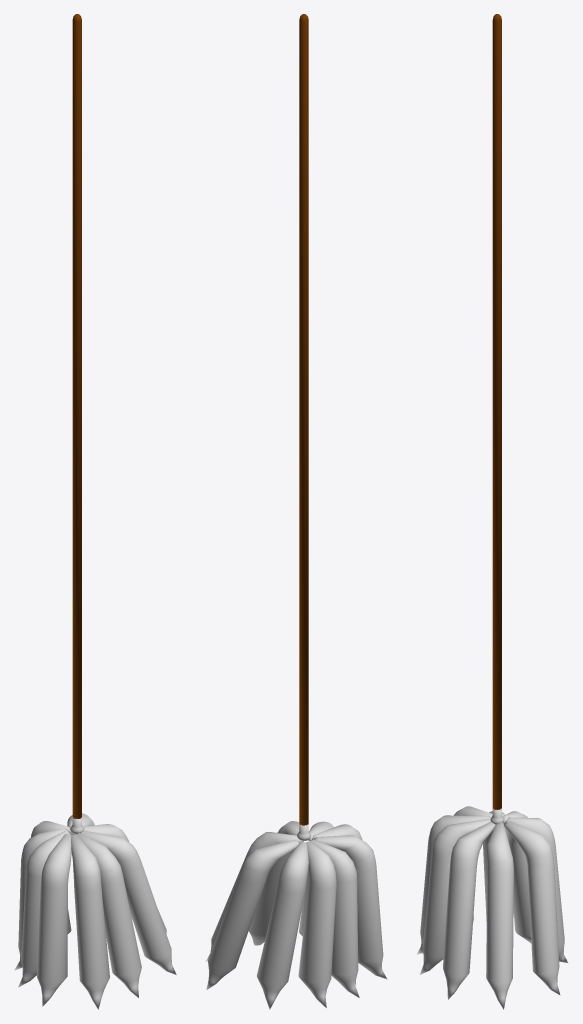
The model's file is mop.fbx.
3 views of the same model, side by side, from view 1: azimuth 30°, elevation 25°; view 2: azimuth 150°, elevation 25°; view 3: azimuth 270°, elevation 25° (orthographic).
Parts seen in each view (by area): view 1: Cylinder.010, Cylinder.001; view 2: Cylinder.010, Cylinder.001; view 3: Cylinder.010, Cylinder.001.
Boxes of the visible parts, bbox=[...] form: Cylinder.010: bbox=[14, 813, 176, 1009]; Cylinder.001: bbox=[72, 14, 81, 818]; Cylinder.010: bbox=[205, 821, 387, 1009]; Cylinder.001: bbox=[299, 14, 308, 825]; Cylinder.010: bbox=[416, 806, 567, 1009]; Cylinder.001: bbox=[492, 14, 501, 809].
Bounding box in the file's own units: 3800 × 22731 × 3300.
